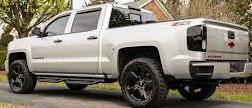Trucks: (6, 4, 252, 108)
